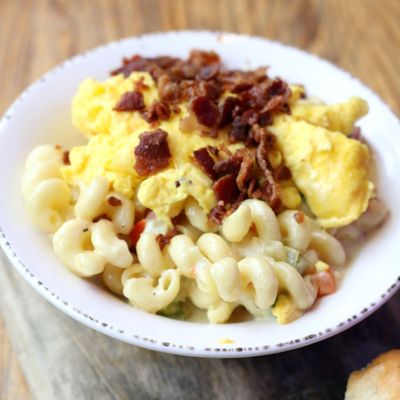sushi: (0, 30, 392, 361)
